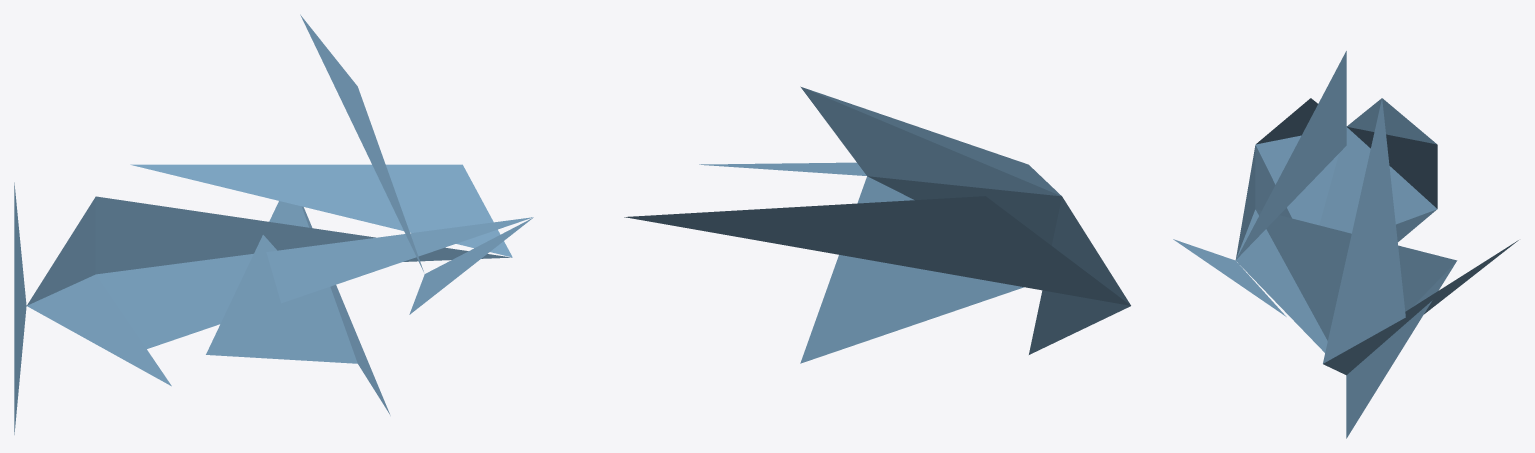
File: bonito.glb
3 renders of one model, left to right at view 1: azimuth 30°, elevation 25°; view 2: azimuth 150°, elevation 25°; view 3: azimuth 270°, elevation 25°, orthographic. The views are drawn at different scales.
Visible parts, largest first — view 1: bonito; view 2: bonito; view 3: bonito.
Part boxes in pixels (x1,y1,x2,y2): bonito: (14,14,533,434); bonito: (624,86,1130,363); bonito: (1173,51,1518,438).
Size of the model in its own units: 1.33 by 0.98 by 0.88.
